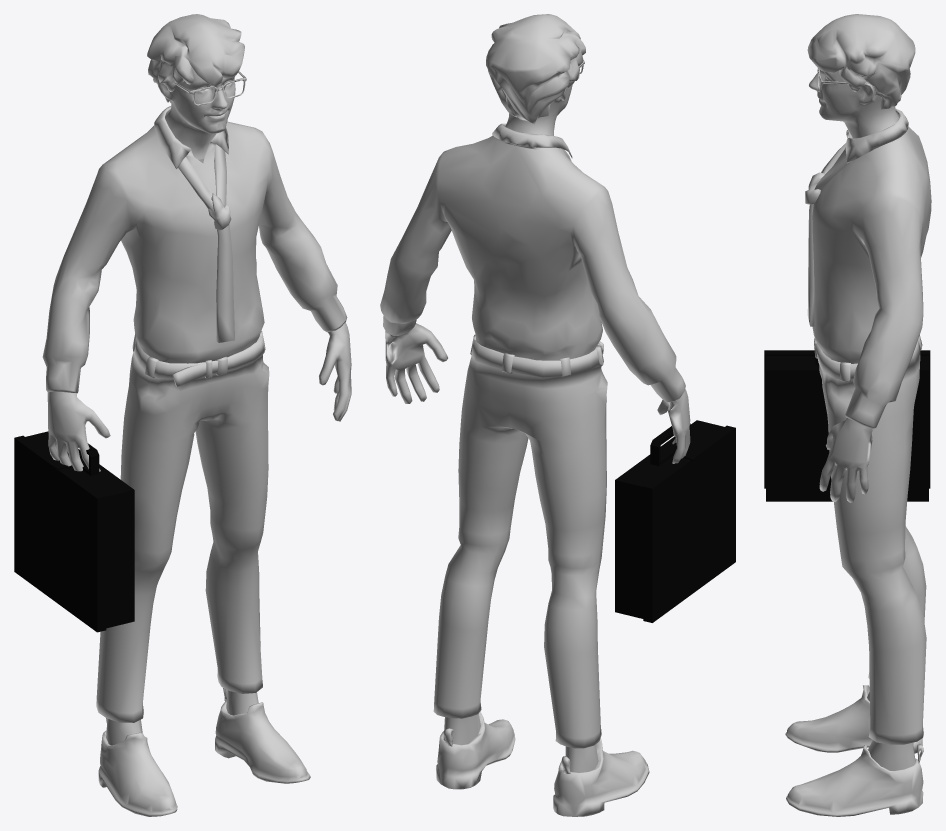
Rendered from money given character.fbx.
3 renders of one model, left to right at view 1: azimuth 30°, elevation 25°; view 2: azimuth 150°, elevation 25°; view 3: azimuth 270°, elevation 25°, orthographic.
Visible parts, largest first — view 1: money given character; view 2: money given character; view 3: money given character.
Boxes of the visible parts, x1,y1,x2,y2 form: money given character: [14, 14, 351, 816]; money given character: [380, 14, 735, 816]; money given character: [764, 14, 931, 816].
Bounding box in the file's own units: 59.74 × 144 × 28.88.
